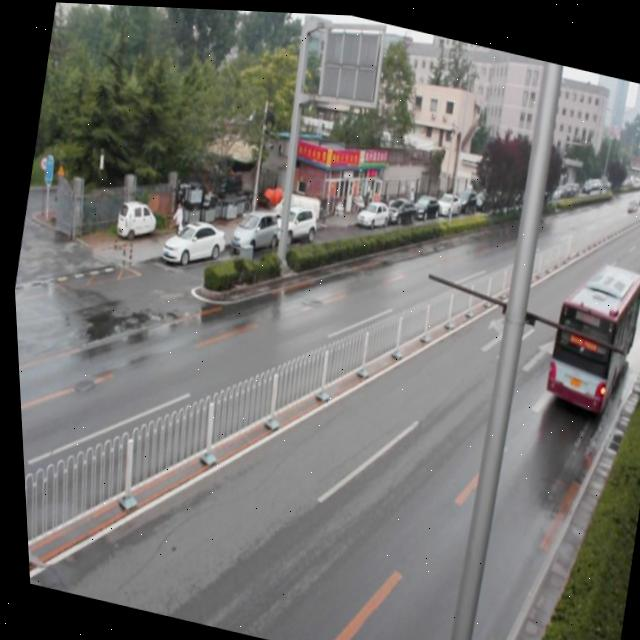van: (533, 245, 640, 413)
